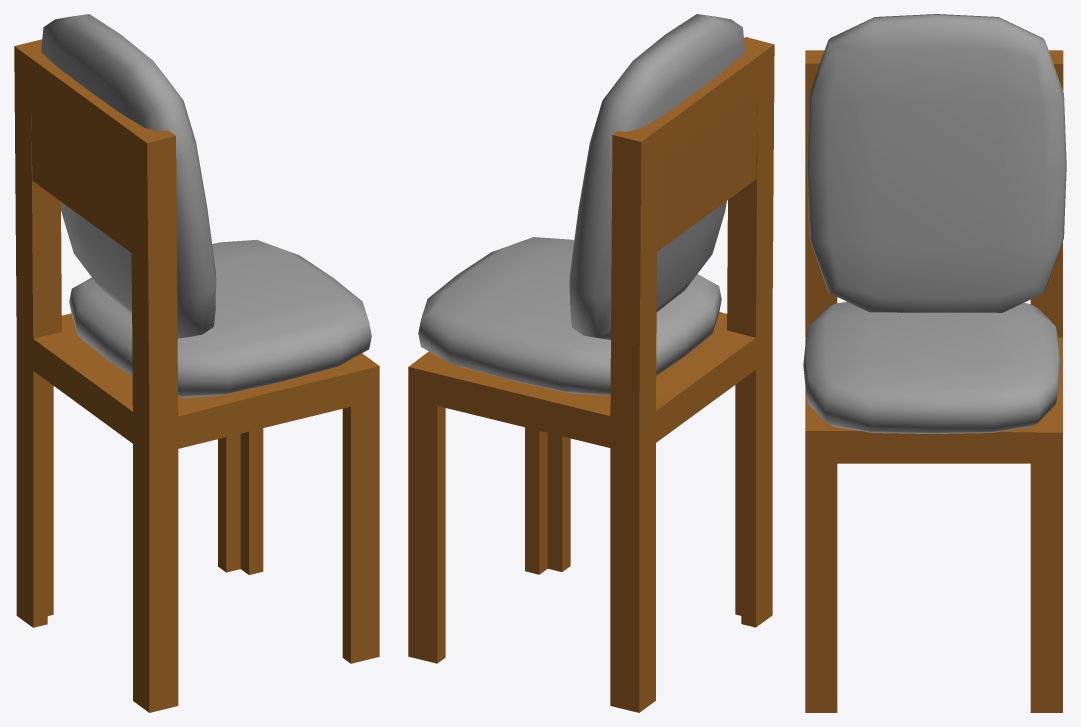
The model's file is tahtasandalyeminderli.fbx.
3 renders of one model, left to right at view 1: azimuth 30°, elevation 25°; view 2: azimuth 150°, elevation 25°; view 3: azimuth 270°, elevation 25°, orthographic. The views are drawn at different scales.
Parts seen in each view (by area): view 1: Cube.001, Cube, Cube.003; view 2: Cube.001, Cube, Cube.003; view 3: Cube.003, Cube.001, Cube.
Boxes of the visible parts, bbox=[...] form: Cube.001: bbox=[14, 39, 379, 712]; Cube: bbox=[69, 240, 371, 398]; Cube.003: bbox=[41, 14, 216, 338]; Cube.001: bbox=[408, 37, 774, 712]; Cube: bbox=[418, 237, 721, 395]; Cube.003: bbox=[569, 14, 744, 339]; Cube.003: bbox=[806, 14, 1066, 312]; Cube.001: bbox=[805, 50, 1063, 712]; Cube: bbox=[803, 302, 1060, 433].
Bounding box in the file's own units: 220 × 515 × 204.
